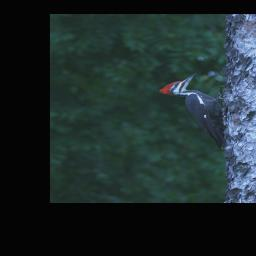Woodpecker: (160, 71, 229, 153)
